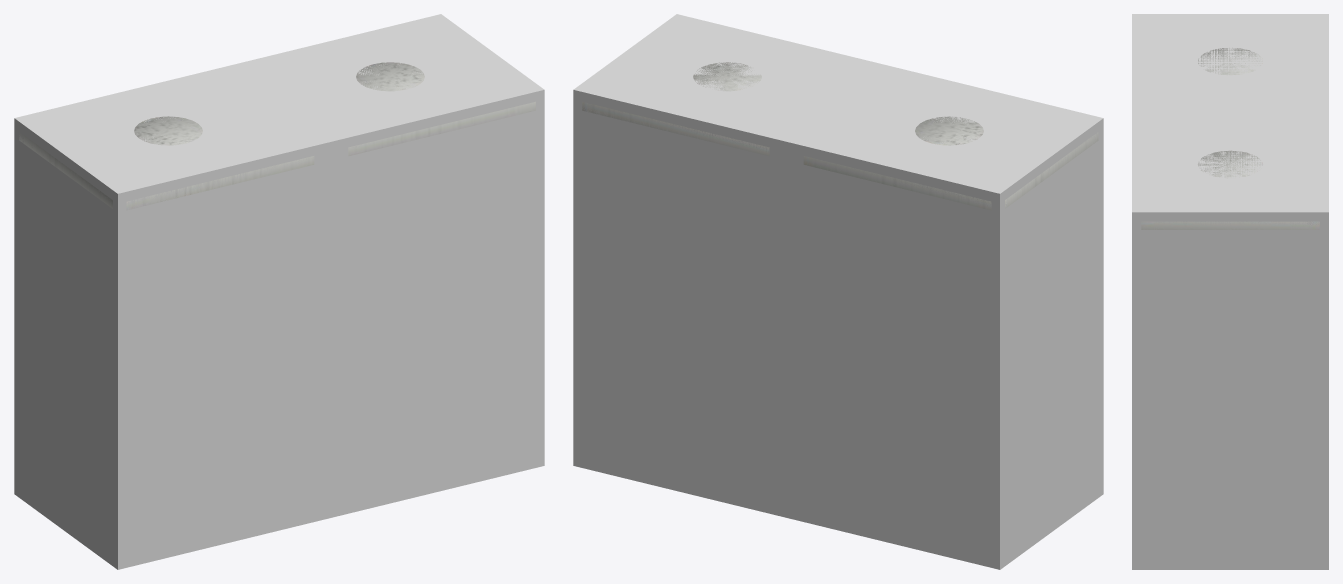
Rendered from pr_bins.gltf.
The picture shows the model from 3 angles, left to right: view 1: azimuth 30°, elevation 25°; view 2: azimuth 150°, elevation 25°; view 3: azimuth 270°, elevation 25°; orthographic projection. The views are drawn at different scales.
Parts seen in each view (by area): view 1: pr_bins_COL, pr_bins_LOD0; view 2: pr_bins_COL, pr_bins_LOD0; view 3: pr_bins_COL, pr_bins_LOD0.
Boxes of the visible parts, box(x1,y1,x2,y2) form: pr_bins_COL: box(14, 14, 544, 569); pr_bins_LOD0: box(19, 62, 535, 210); pr_bins_COL: box(573, 14, 1103, 569); pr_bins_LOD0: box(582, 62, 1098, 210); pr_bins_COL: box(1132, 14, 1328, 569); pr_bins_LOD0: box(1141, 48, 1319, 229).
Size of what is drawn, in the model's own units: 1 by 0.842 by 0.42.
Materials: 1 (1 with a texture image).
